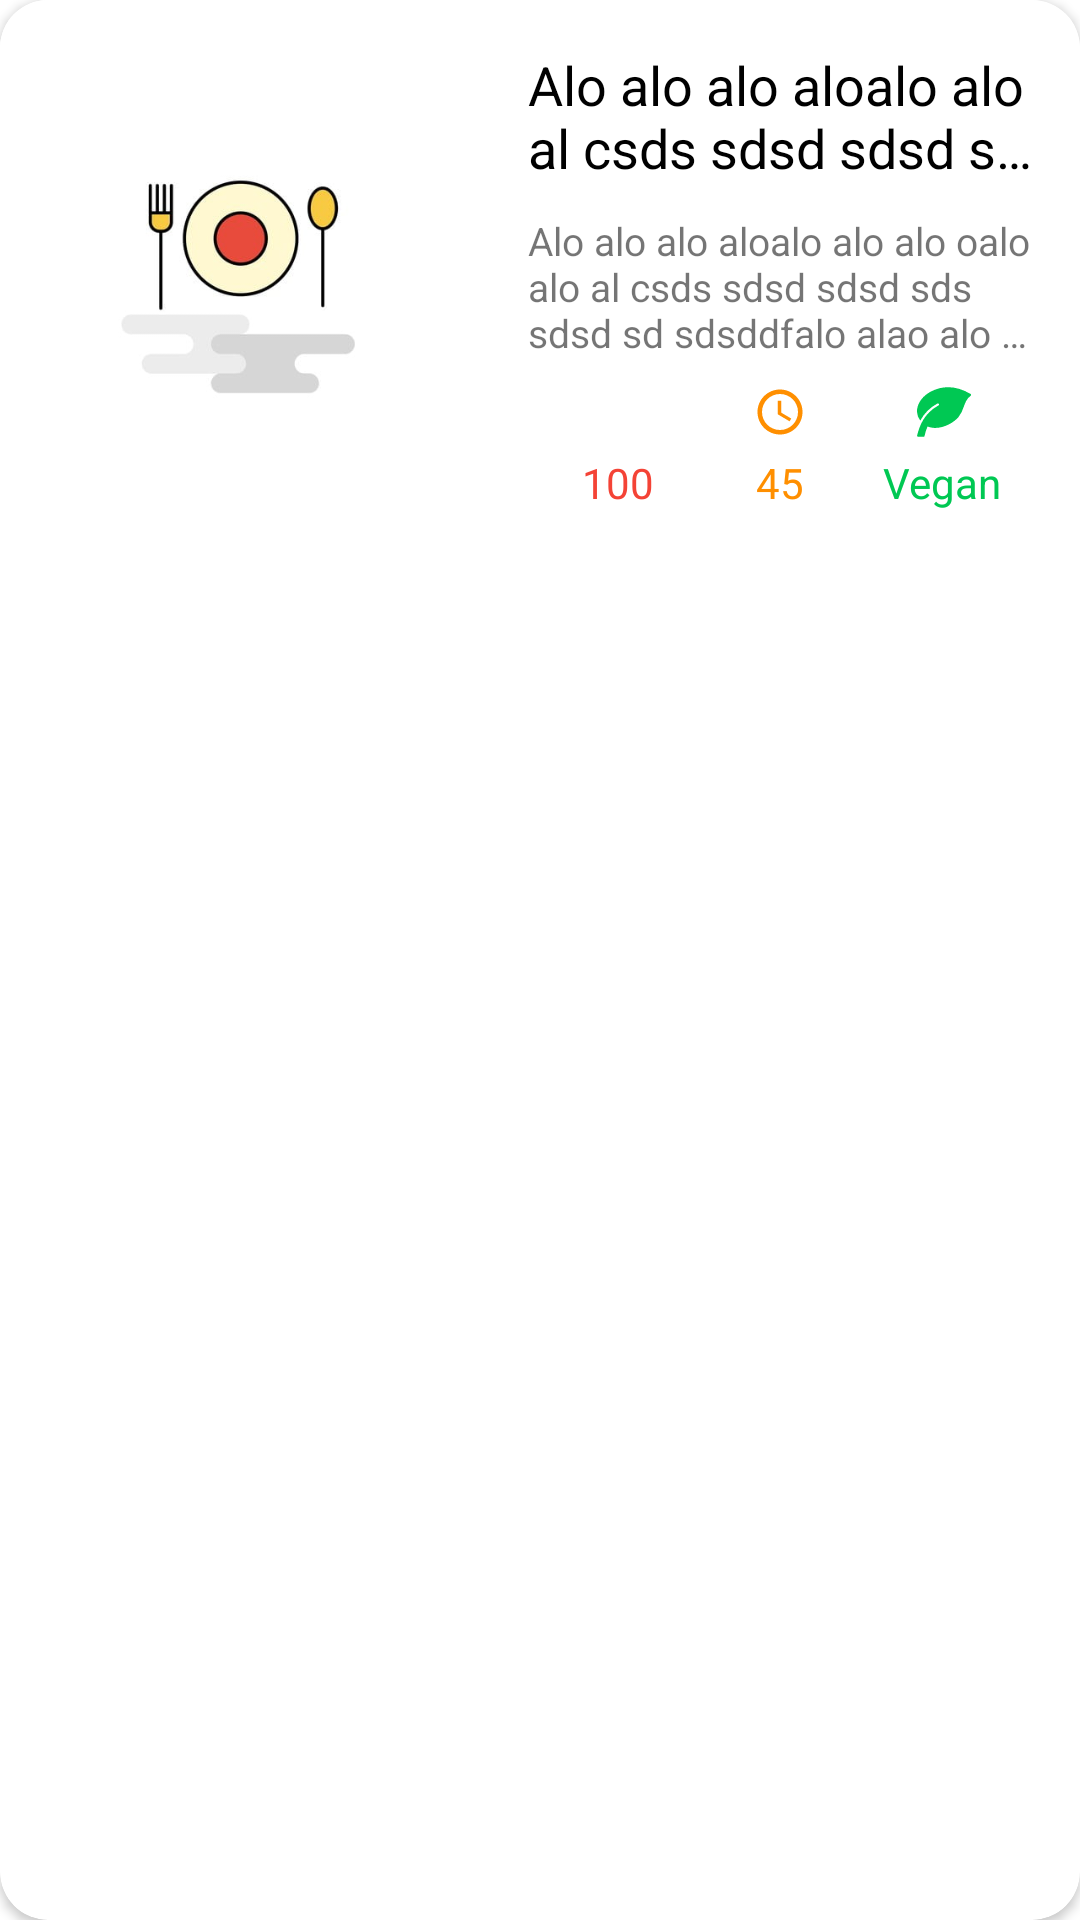

Where icons sit on this 1080px×1920px app screen, as [left=x1, top=y1, right=x2, bottom=y2]:
access time: [left=757, top=389, right=803, bottom=435]
recipe: [left=148, top=180, right=355, bottom=393]
